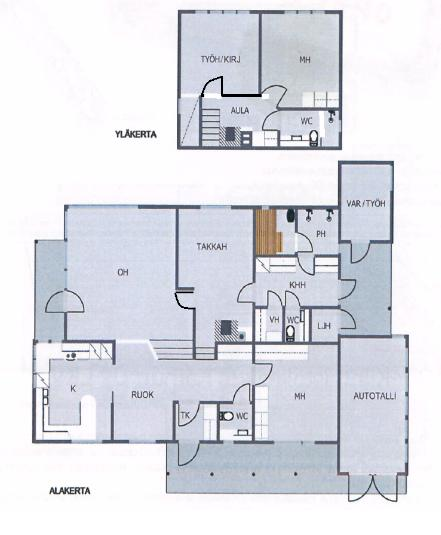bathroom: (276, 110, 322, 146), (219, 403, 254, 442), (284, 308, 305, 343)
door: (372, 470, 404, 503), (346, 471, 374, 504), (176, 437, 203, 468), (177, 397, 203, 428), (43, 289, 71, 316), (261, 83, 290, 109), (64, 289, 88, 317), (250, 360, 274, 388), (295, 251, 319, 278), (348, 239, 372, 265), (334, 276, 357, 303), (229, 381, 254, 405), (200, 74, 226, 97), (234, 280, 258, 304), (293, 230, 315, 256), (260, 109, 284, 132), (337, 305, 357, 330), (174, 290, 197, 311), (264, 289, 283, 309), (283, 289, 301, 310)
perimeter: (30, 161, 413, 474), (176, 8, 343, 151)
stairs: (151, 338, 194, 360), (200, 109, 221, 148), (194, 345, 216, 361)
window: (66, 202, 142, 212), (32, 239, 37, 341), (194, 202, 234, 213), (69, 437, 107, 447), (270, 438, 303, 449), (125, 437, 160, 446), (174, 95, 183, 118), (34, 237, 68, 243), (63, 238, 69, 272), (390, 161, 396, 195), (310, 7, 328, 17), (404, 417, 411, 442), (405, 394, 412, 418), (404, 439, 410, 466), (405, 344, 411, 371), (207, 7, 225, 16), (221, 6, 238, 15), (30, 372, 38, 391), (296, 7, 312, 16), (192, 7, 210, 15), (64, 269, 70, 291), (282, 8, 298, 16), (236, 8, 252, 16), (49, 339, 65, 347), (405, 370, 410, 395), (32, 340, 38, 360), (33, 338, 52, 344), (302, 439, 317, 446), (259, 203, 270, 212), (221, 439, 237, 445), (31, 359, 37, 374), (339, 115, 343, 135), (337, 240, 342, 255), (338, 328, 342, 339)
